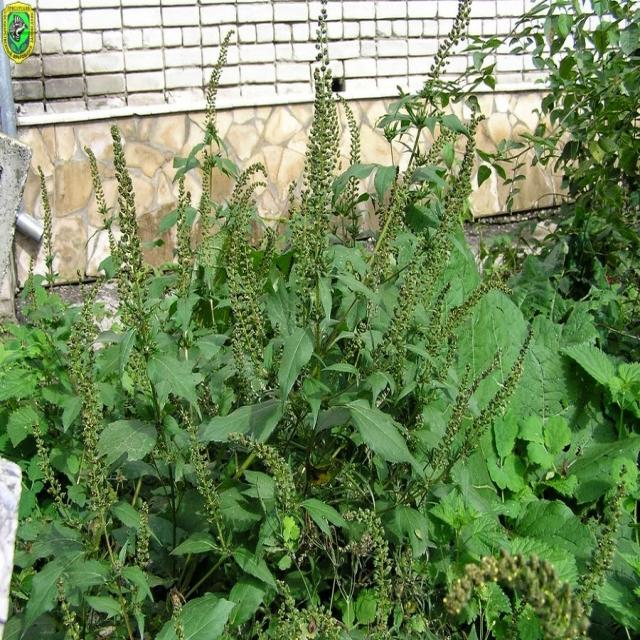ambrosia: (374, 140, 533, 472), (64, 126, 190, 391), (162, 387, 318, 588), (286, 8, 361, 358)
